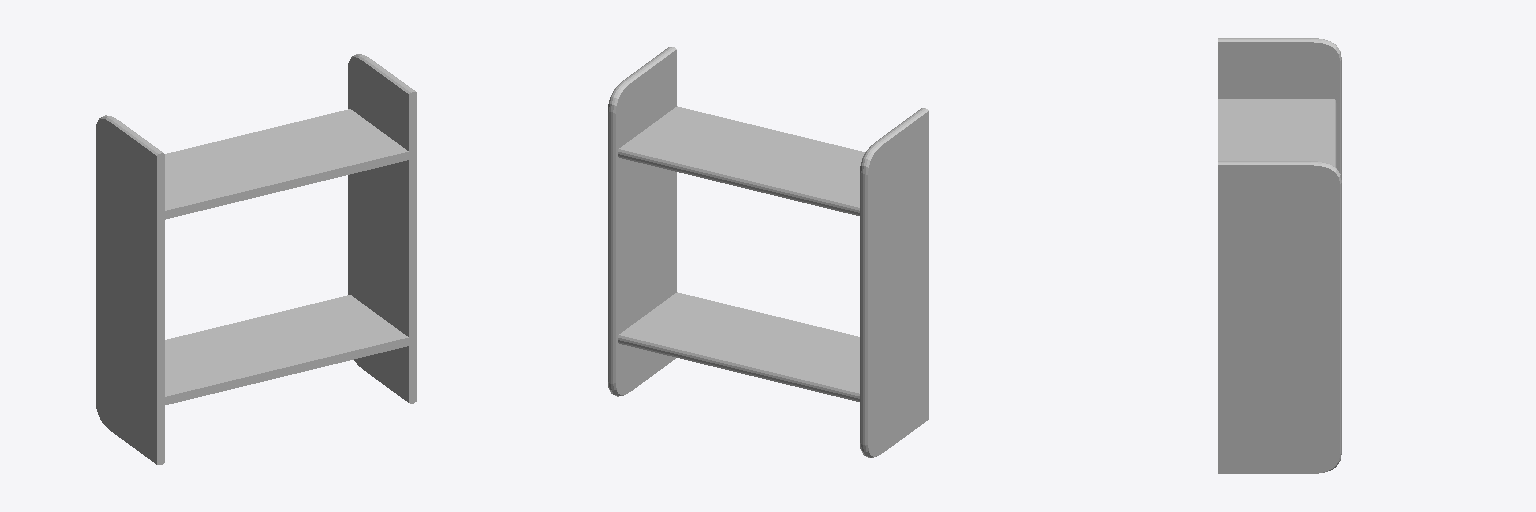
The model's file is REPISA.obj.
3 views of the same model, side by side, from view 1: azimuth 30°, elevation 25°; view 2: azimuth 150°, elevation 25°; view 3: azimuth 270°, elevation 25° (orthographic).
Parts seen in each view (by area): view 1: WallShelf4; view 2: WallShelf4; view 3: WallShelf4.
Part boxes in pixels (x1,y1,x2,y2): WallShelf4: (96, 54, 416, 464); WallShelf4: (608, 47, 928, 457); WallShelf4: (1218, 38, 1341, 473).
Bounding box in the file's own units: 0.5824 × 0.6664 × 0.2393.